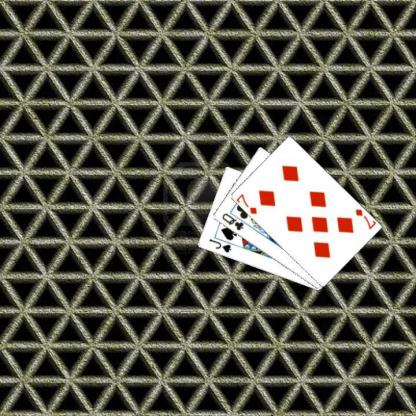7D: (234, 191, 258, 216), (353, 206, 376, 231)
JS: (206, 236, 232, 254)
QC: (219, 210, 245, 232)
